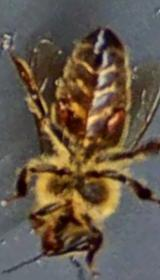varroa_mite: (96, 95, 130, 138), (49, 92, 76, 128)
